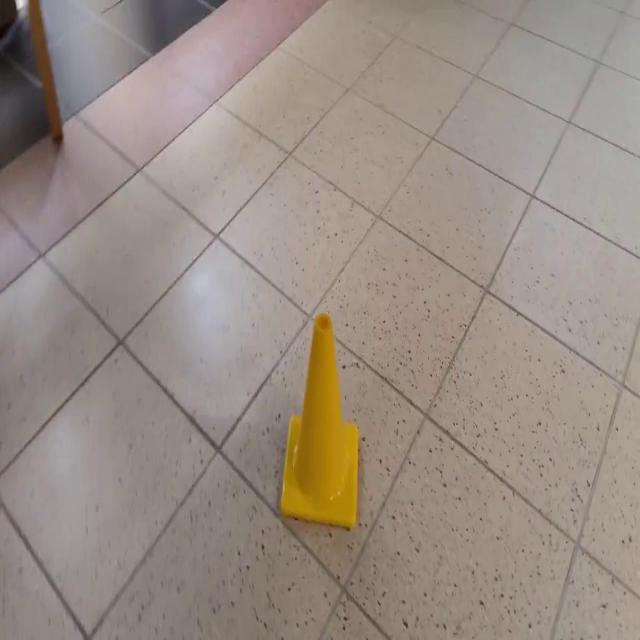frc_cone: (279, 310, 360, 534)
